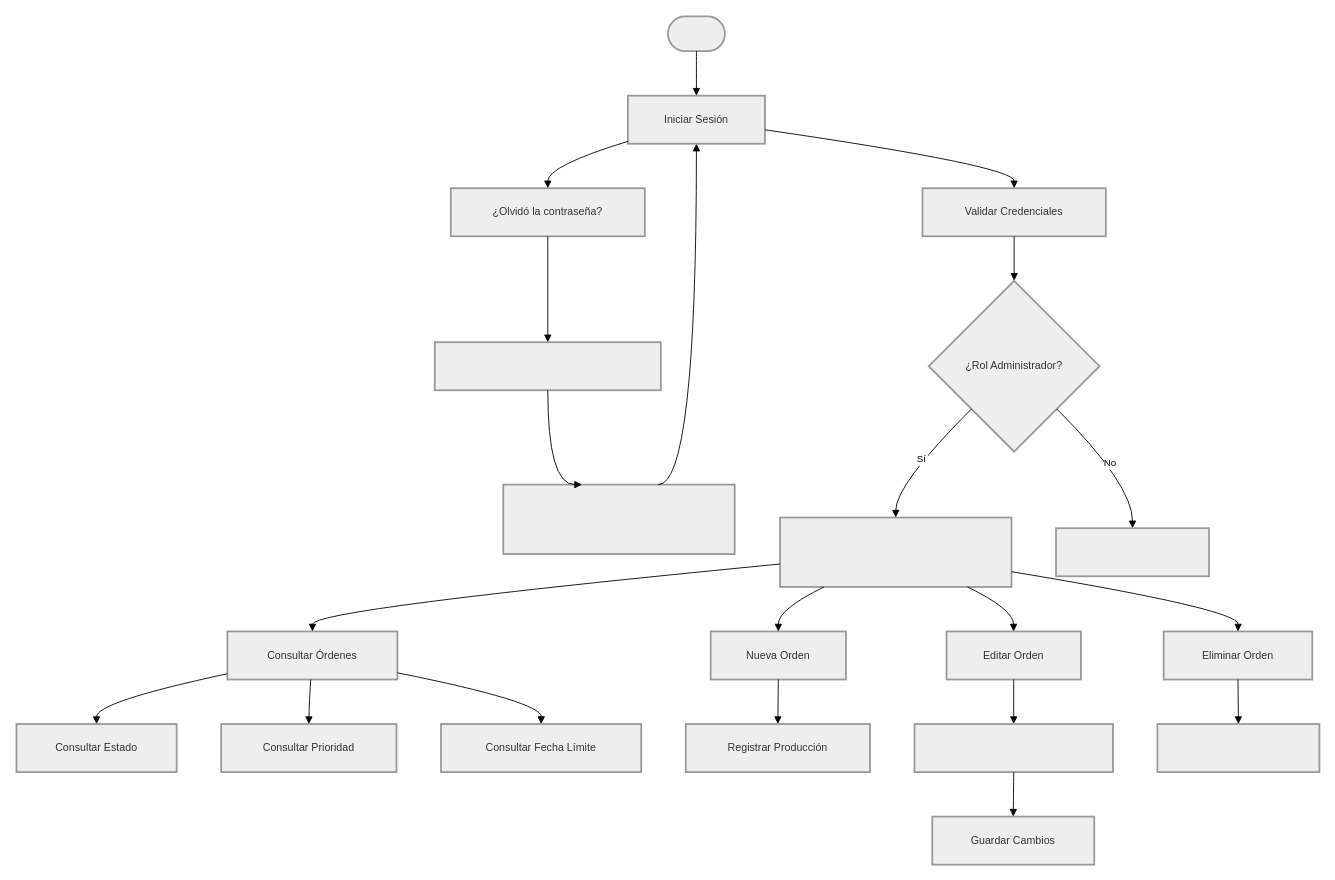
The diagram is 1335 pixels wide and 880 high, and some of its shapes have lost their labels. The shapes that lost their labels are listed below. From the top down, each one's box as (x1, y1, x2, y2) in pixels, then its label:
(667, 15, 725, 52): Inicio
(433, 341, 661, 391): Ingresar correo electrónico
(502, 483, 735, 554): Enviar recuperación de contraseña
(779, 516, 1012, 587): Mostrar Gestión de Producción
(1055, 527, 1210, 577): Denegar Acceso
(913, 723, 1113, 773): Actualizar Información
(1156, 723, 1320, 773): Eliminar Registro
